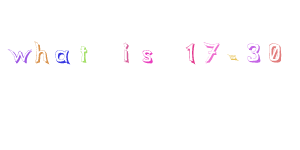-: (226, 50, 240, 67)
0: (264, 40, 285, 68)
1: (179, 40, 202, 70)
3: (243, 39, 261, 66)
7: (203, 39, 224, 68)
a: (53, 44, 73, 70)
h: (31, 35, 51, 68)
i: (113, 36, 135, 69)
s: (139, 45, 162, 73)
t: (76, 46, 95, 67)
w: (7, 42, 32, 69)
